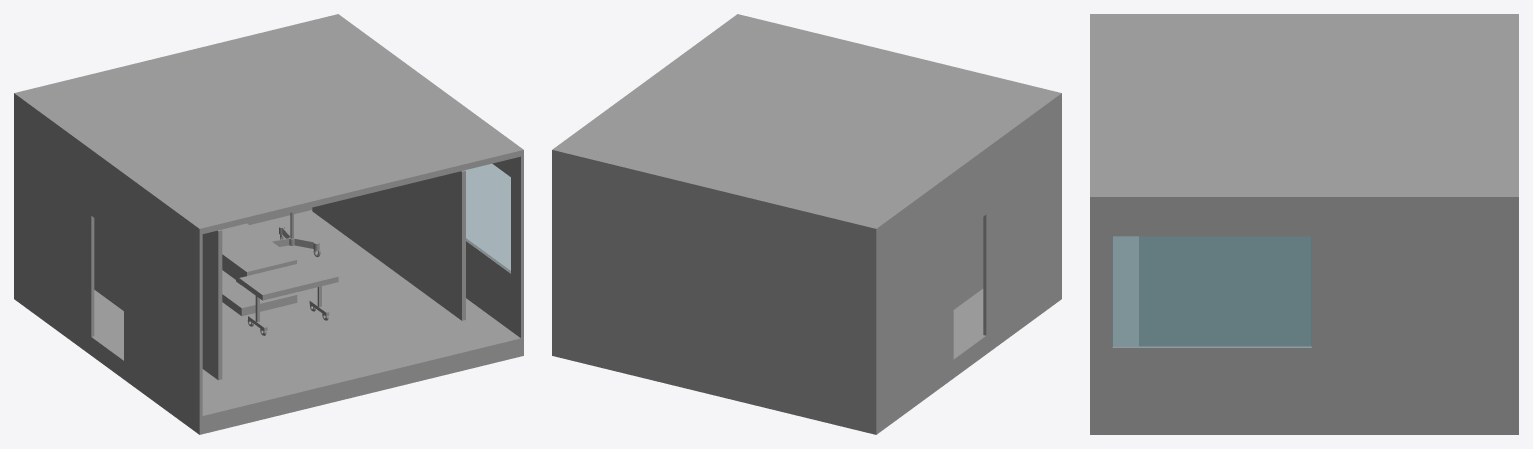
Rendered from Hospital room.fbx.
3 renders of one model, left to right at view 1: azimuth 30°, elevation 25°; view 2: azimuth 150°, elevation 25°; view 3: azimuth 270°, elevation 25°, orthographic. The views are drawn at different scales.
Parts seen in each view (by area): view 1: polySurface45; view 2: polySurface45; view 3: polySurface45.
Boxes of the visible parts, x1,y1,x2,y2 form: polySurface45: (14, 14, 523, 434); polySurface45: (552, 14, 1061, 434); polySurface45: (1090, 14, 1518, 434).
Size of the model in its own units: 5.6 by 3.4 by 5.55.
